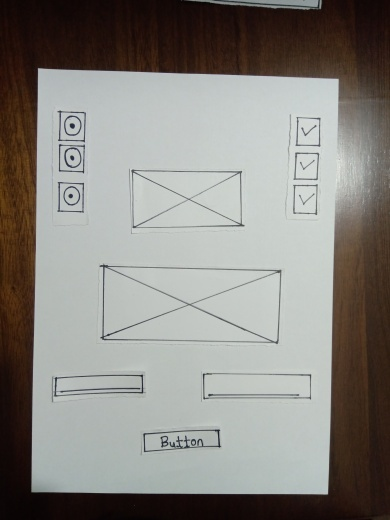button: (145, 429, 222, 454)
checkbox: (293, 114, 324, 148), (289, 183, 320, 217), (289, 147, 320, 181)
img: (100, 264, 280, 348), (132, 169, 238, 230)
radio: (60, 143, 87, 175), (58, 110, 86, 140), (56, 182, 84, 212)
text: (203, 374, 313, 404), (55, 370, 146, 401)
